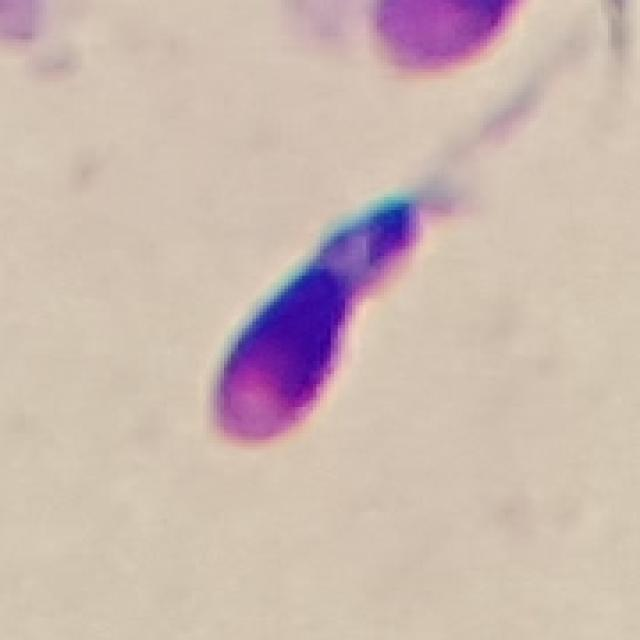abnormal sperm: (208, 118, 499, 448)
